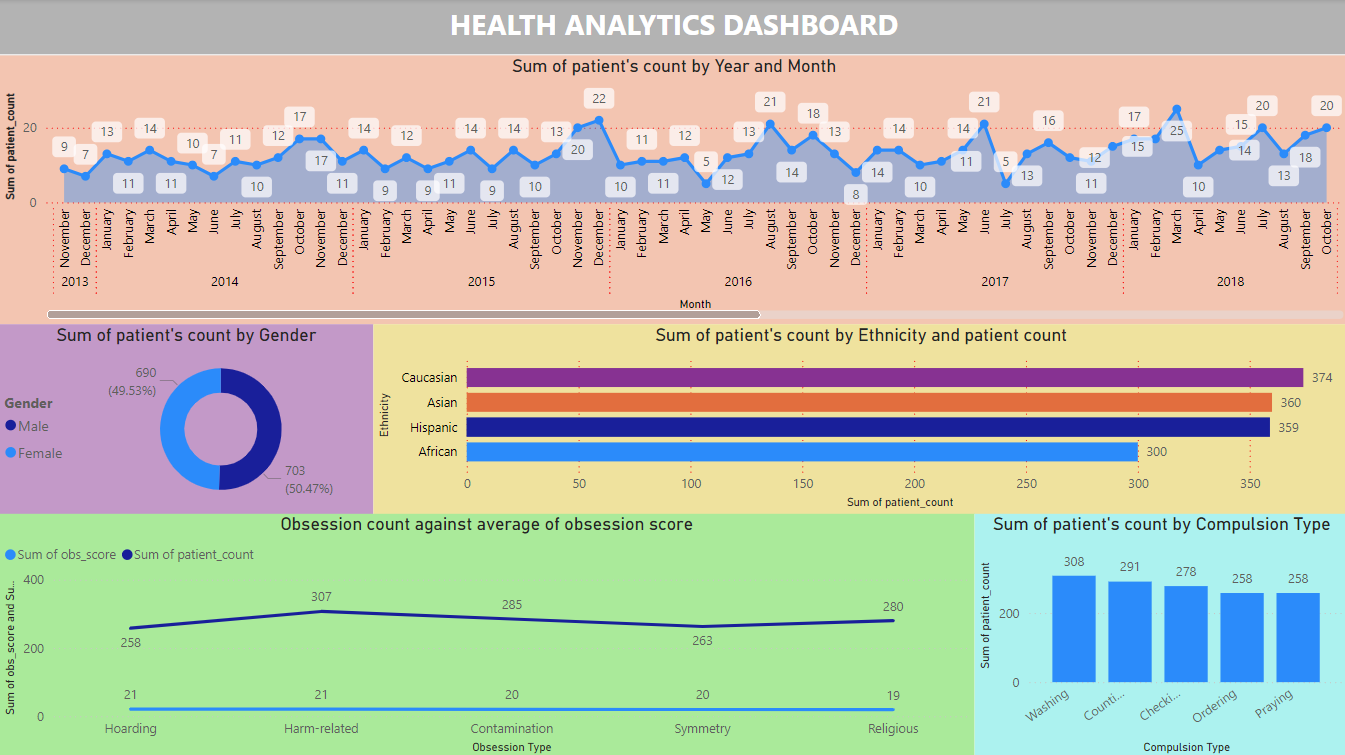

The page's visual inventory and layout, read from the dashboard file:
{"tool":"powerbi","page":{"name":"Page 1","canvas":[1280,720],"ordinal":0},"visuals":[{"type":"textbox","box":[0,0,1280.2,53.5],"z":0},{"type":"lineClusteredColumnComboChart","title":"Sum of patient''s count by Year and Month","fields":{"Y2":["Sum(diagnosis month over month.patient_count)"],"Category":["diagnosis month over month.month.Variation.Date Hierarchy.Year","diagnosis month over month.month.Variation.Date Hierarchy.Month"]},"box":[0,53.5,1280.2,254.9],"z":1000},{"type":"donutChart","title":"Sum of patient''s count by Gender","fields":{"Category":["gender.Gender"],"Y":["Sum(gender.patient_count)"]},"box":[0,308.4,355,179.8],"z":2000},{"type":"clusteredBarChart","title":"Sum of patient''s count by Ethnicity and patient count","fields":{"Category":["ethnicity.Ethnicity"],"Y":["Sum(ethnicity.patient_count)"]},"box":[355,308.4,925.2,179.8],"z":3000},{"type":"columnChart","title":"Sum of patient''s count by Compulsion Type","fields":{"Category":["Compulsion type.Compulsion Type"],"Y":["Sum(Compulsion type.patient_count)"]},"box":[925.2,488.2,355,232.1],"z":4000},{"type":"lineChart","title":"Obsession count against  average of obsession score","fields":{"Category":["obsessions type.Obsession Type"],"Y":["Sum(obsessions type.obs_score)","Sum(obsessions type.patient_count)"]},"box":[0,488.2,925.2,232.1],"z":5000}]}

Visuals, with their boxes in screenshot pixels (x1, y1, x2, y2), scaled from the page's 1280x720 canvas onto the 1345x755 screenshot:
textbox: (0,0,1344,56)
"Sum of patient''s count by Year and Month" lineClusteredColumnComboChart: (0,56,1344,323)
"Sum of patient''s count by Gender" donutChart: (0,323,373,512)
"Sum of patient''s count by Ethnicity and patient count" clusteredBarChart: (373,323,1344,512)
"Sum of patient''s count by Compulsion Type" columnChart: (972,512,1344,754)
"Obsession count against  average of obsession score" lineChart: (0,512,972,754)
